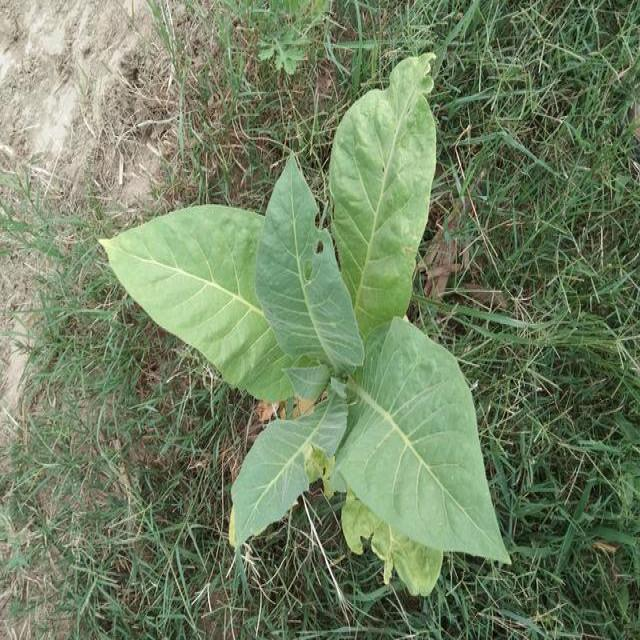crop: (96, 55, 519, 596)
